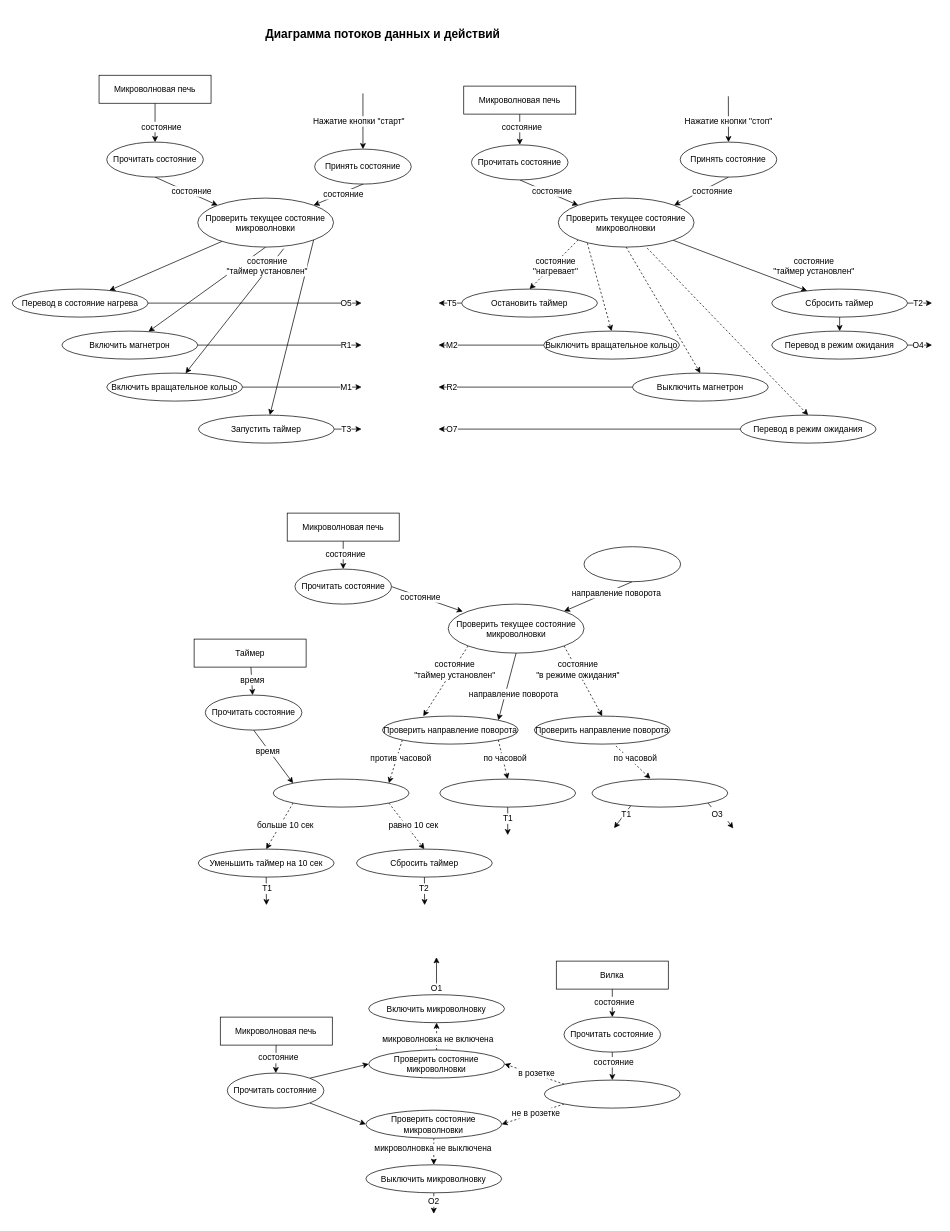
This 950x1231 diagram has some shape labels left out. The shapes that lost their labels are listed below. From the top down, each one's box as (x1, y1, x2, y2) in pixels, then its label:
(583, 546, 681, 582): Чтение направления поворота
(273, 778, 409, 807): Проверить время таймера
(439, 778, 576, 807): Увеличить таймер на 10 сек
(591, 778, 728, 807): Установить таймер на 10 сек
(544, 1079, 680, 1108): Проверить состояние вилки
